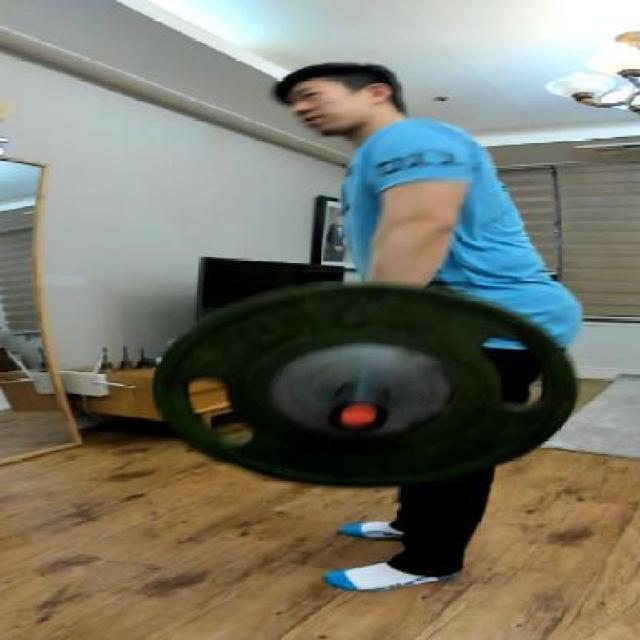barbell: (142, 271, 584, 497)
